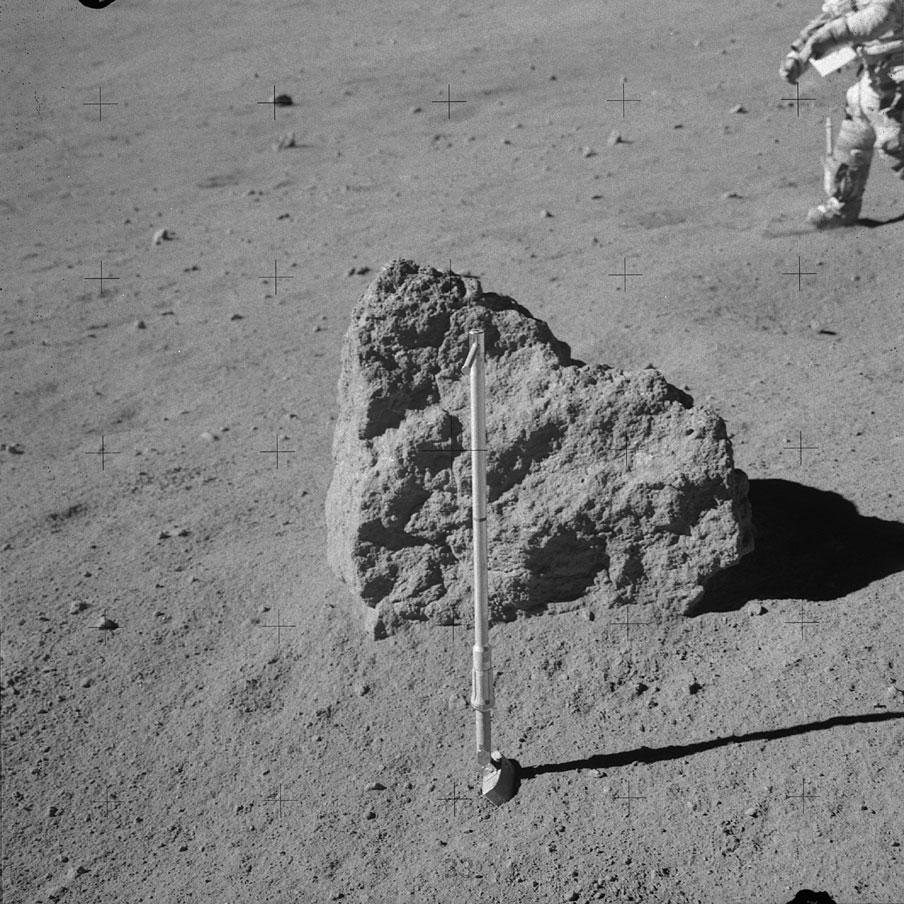rock: (327, 260, 752, 636)
